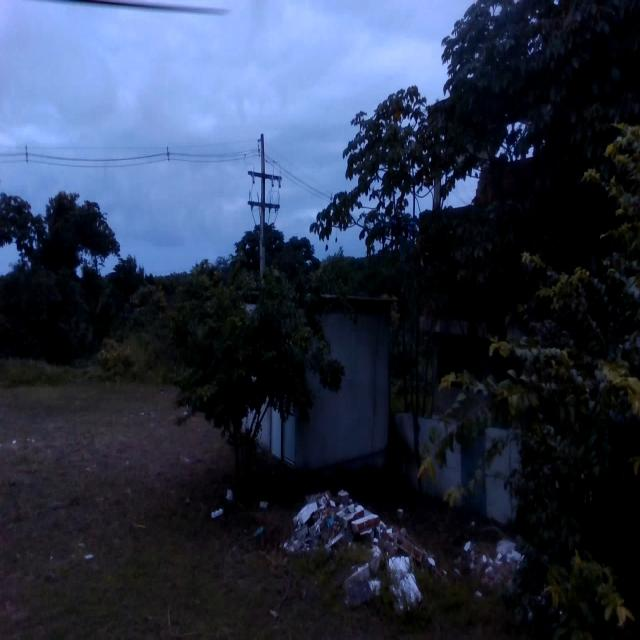-uav-: (372, 208, 419, 267)
